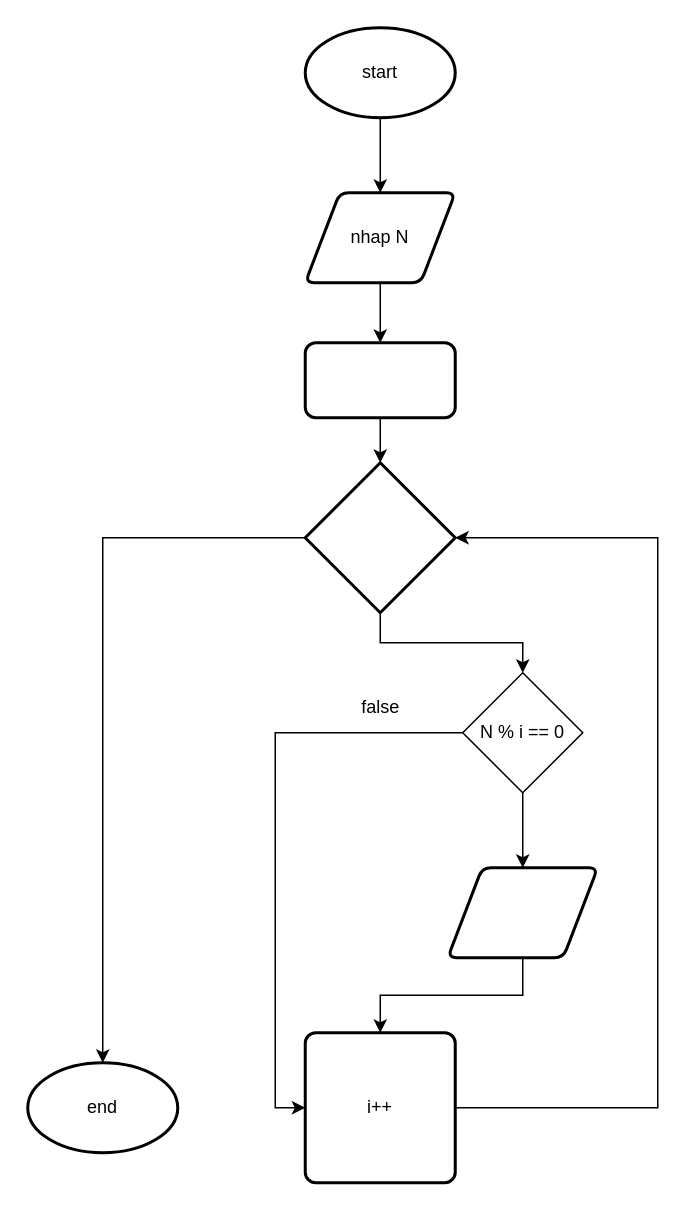
Some shapes in this 696 by 1209 pixel diagram are drawn without their labels. The centre of each missing label's shape, as x and y in pixels:
i <= N: the point at 379,537
i = 0: the point at 379,379
printf i: the point at 522,912
